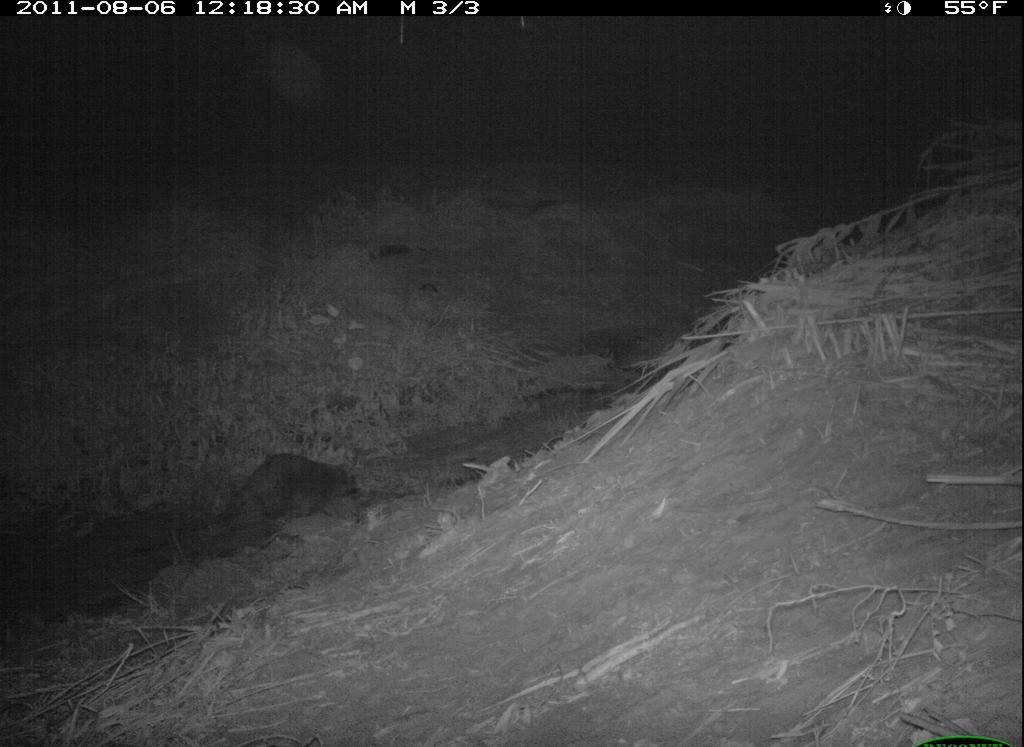raccoon: (193, 429, 390, 547)
